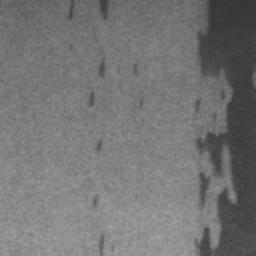Red iron sheet: (195, 0, 256, 255), (65, 0, 111, 23), (93, 136, 104, 154), (99, 60, 109, 77), (90, 192, 100, 207), (87, 91, 95, 108), (100, 234, 106, 256), (137, 97, 146, 109), (132, 61, 138, 78), (65, 44, 73, 52)
